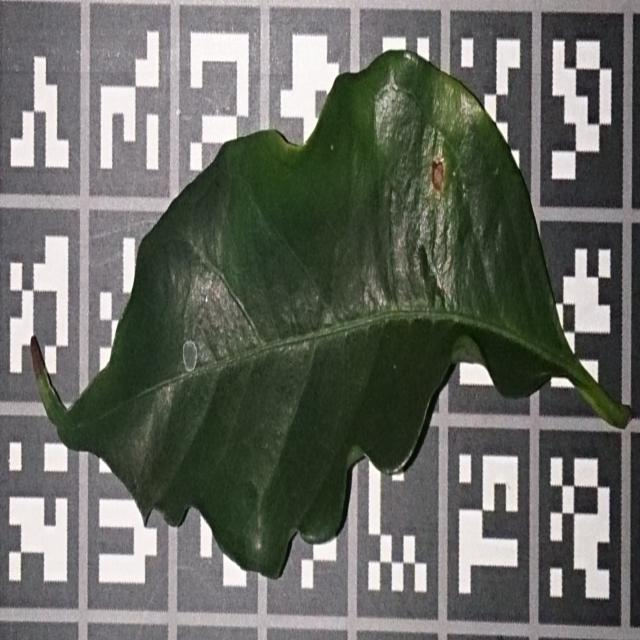Enfermedad-Mancha-de-hierro: (37, 48, 630, 582)
